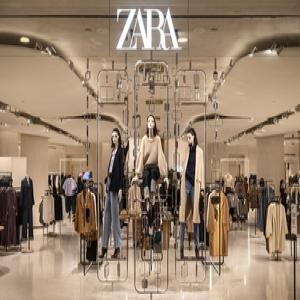zara: (126, 3, 234, 10)
